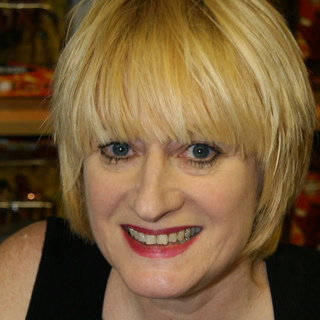eye: (173, 136, 225, 171), (93, 134, 143, 166)
